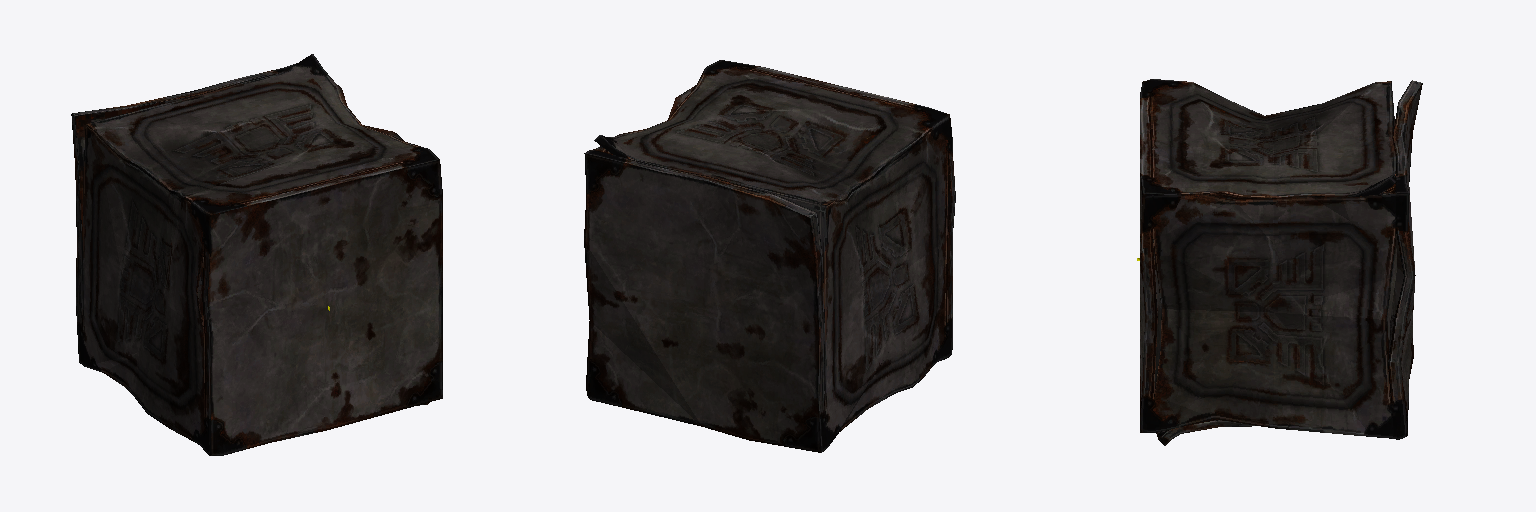
The picture shows the model from 3 angles: view 1: azimuth 30°, elevation 25°; view 2: azimuth 150°, elevation 25°; view 3: azimuth 270°, elevation 25°; orthographic projection.
Visible parts, largest first — view 1: BoxIron_ver2__Mt_BoxIron_A; view 2: BoxIron_ver2__Mt_BoxIron_A; view 3: BoxIron_ver2__Mt_BoxIron_A.
Boxes of the visible parts, box(x1,y1,x2,y2) form: BoxIron_ver2__Mt_BoxIron_A: box(71, 54, 442, 455); BoxIron_ver2__Mt_BoxIron_A: box(584, 60, 955, 452); BoxIron_ver2__Mt_BoxIron_A: box(1140, 79, 1422, 445).
Size of the model in its own units: 2.17 by 2.19 by 2.11.
Materials: 2 (1 with a texture image).